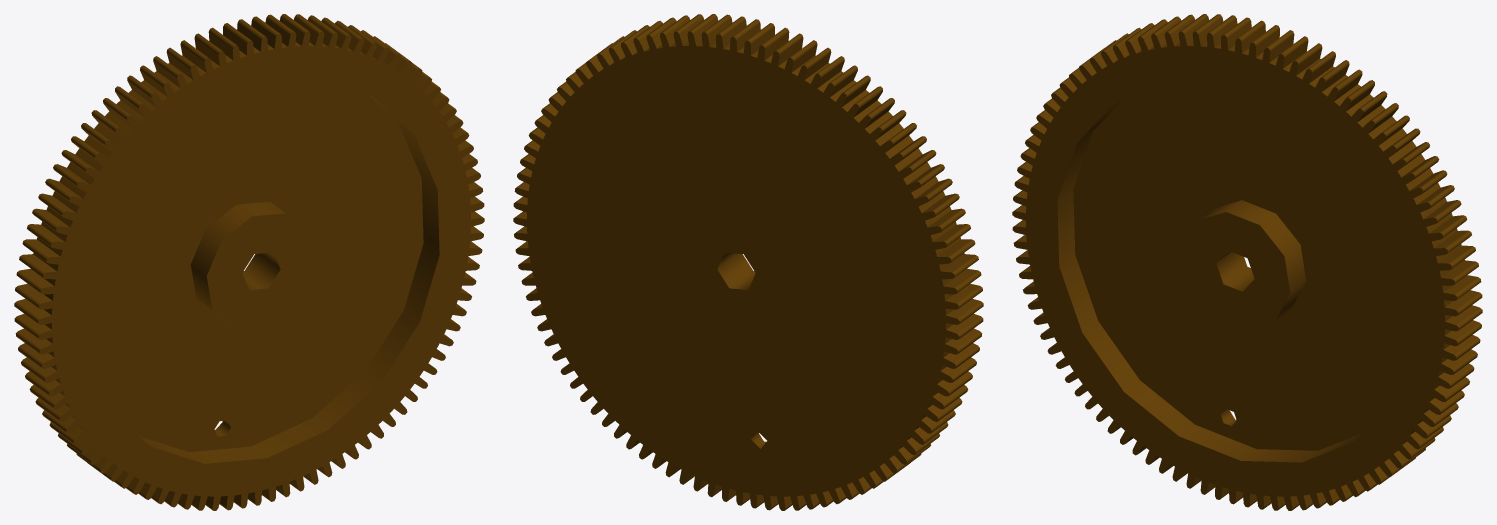
The model's file is Couronne barillet_Mouvement.obj.
3 renders of one model, left to right at view 1: azimuth 30°, elevation 25°; view 2: azimuth 150°, elevation 25°; view 3: azimuth 330°, elevation 25°, orthographic.
Visible parts, largest first — view 1: Face_5, Face_3, Face_2, Face_4, Face_6, Face_392; view 2: Face_1, Face_392; view 3: Face_5, Face_3, Face_2, Face_4, Face_6, Face_392.
Part boxes in pixels (x1=…): Face_5: x1=83, y1=78, x2=423, y2=451; Face_3: x1=38, y1=31, x2=484, y2=510; Face_2: x1=206, y1=213, x2=316, y2=329; Face_4: x1=139, y1=94, x2=439, y2=463; Face_6: x1=190, y1=201, x2=285, y2=324; Face_392: x1=242, y1=252, x2=280, y2=289; Face_1: x1=513, y1=31, x2=959, y2=510; Face_392: x1=717, y1=252, x2=755, y2=289; Face_5: x1=1073, y1=80, x2=1413, y2=450; Face_3: x1=1012, y1=31, x2=1458, y2=510; Face_2: x1=1180, y1=212, x2=1290, y2=330; Face_4: x1=1057, y1=98, x2=1362, y2=462; Face_6: x1=1196, y1=200, x2=1306, y2=320; Face_392: x1=1216, y1=251, x2=1254, y2=291.
Bounding box in the file's own units: 0.0806 × 0.0806 × 0.0075.
